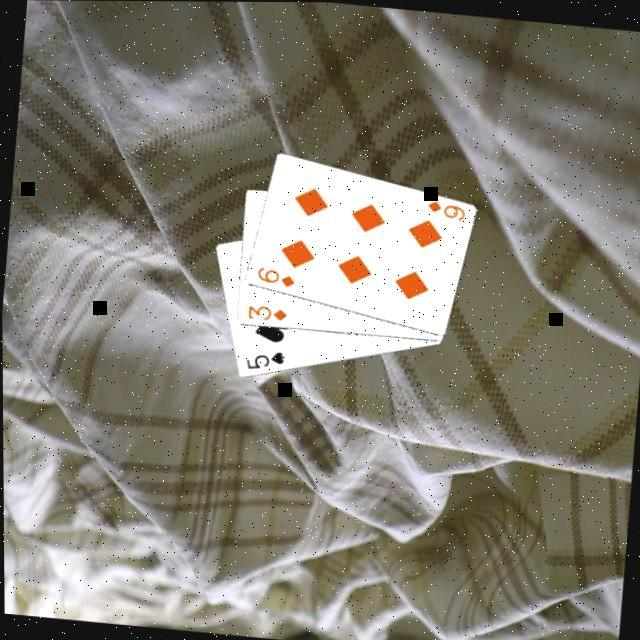3D: (244, 303, 291, 327)
5S: (242, 347, 288, 377)
6D: (423, 197, 469, 225), (254, 264, 299, 292)
